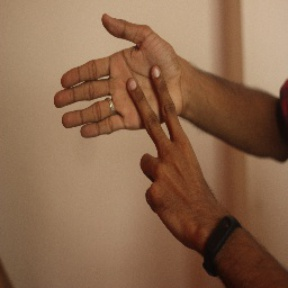N: (50, 9, 211, 176)
